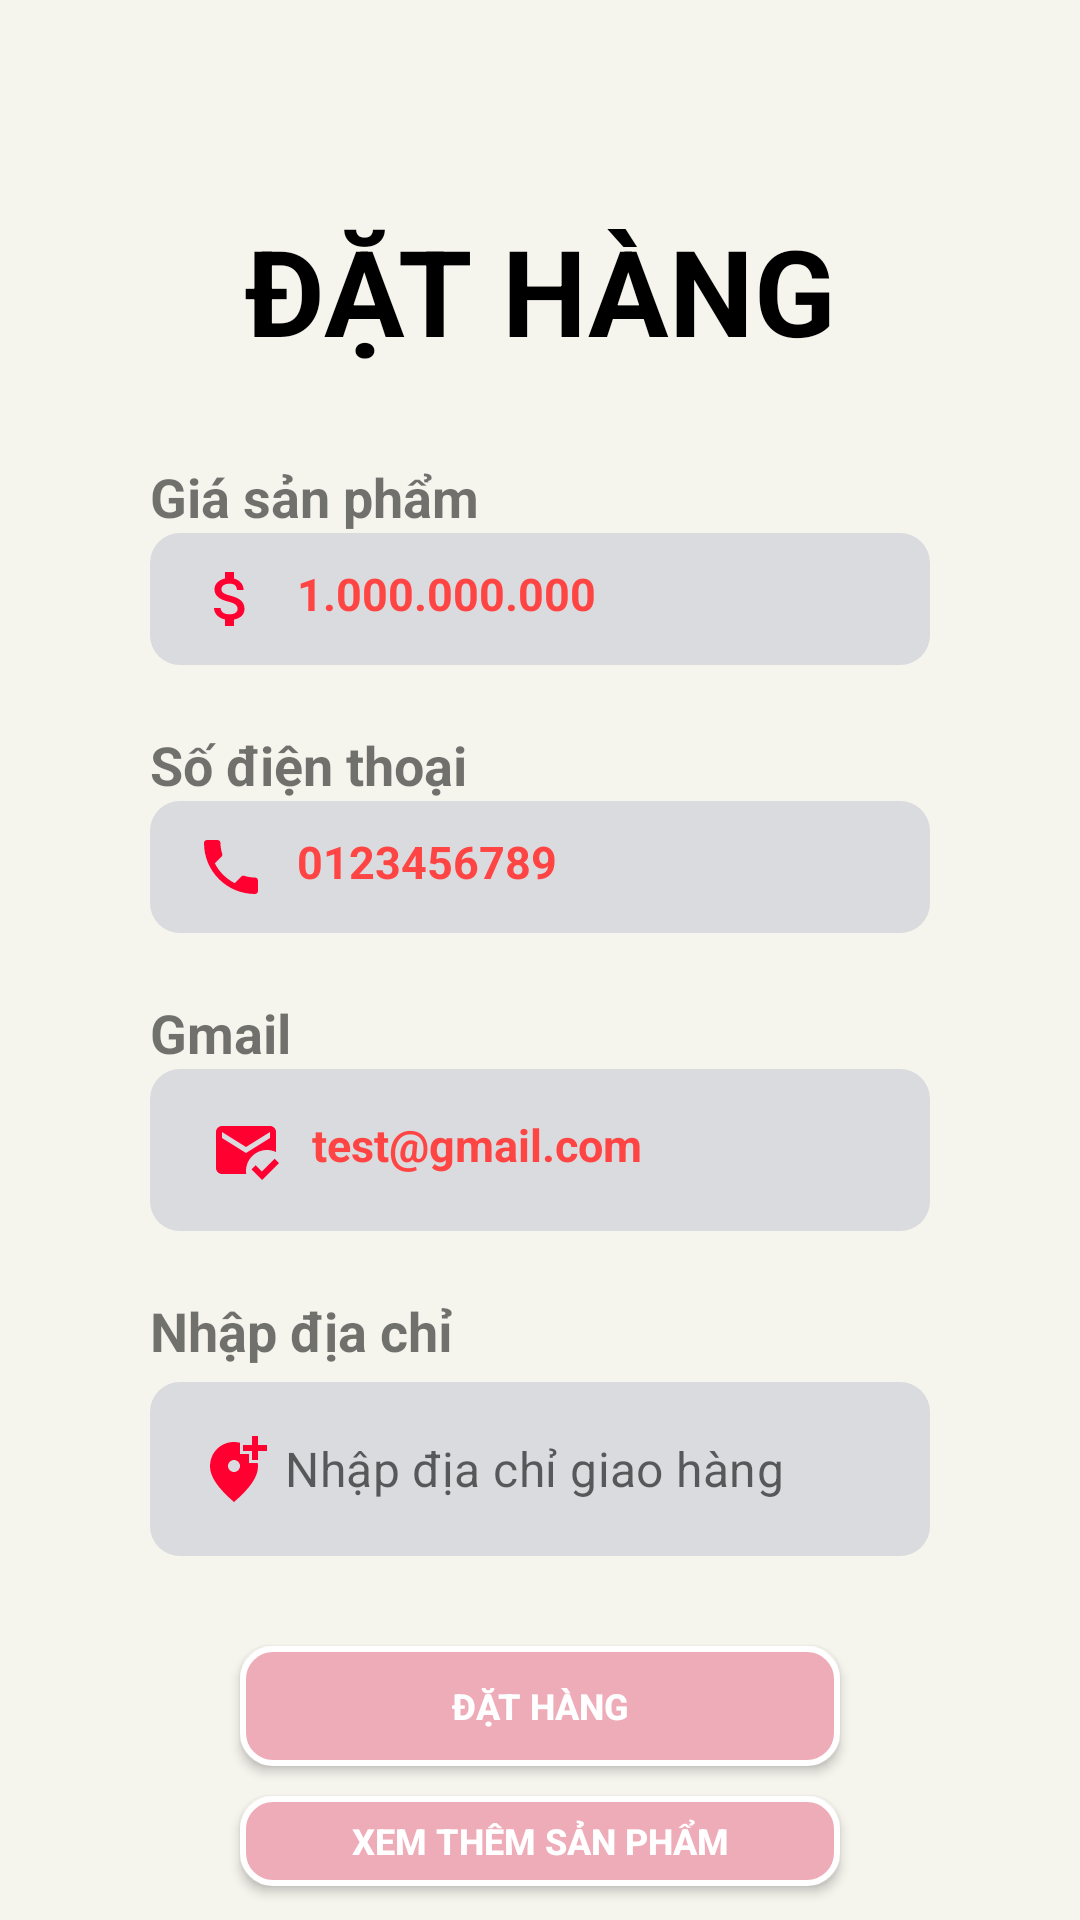

Where icons sit on this 1080px×1920px app screen, as bbox=[x1, y1, x2, y2]:
mark email: bbox=[216, 1126, 279, 1180]
money: bbox=[214, 572, 245, 626]
phone: bbox=[204, 840, 258, 894]
